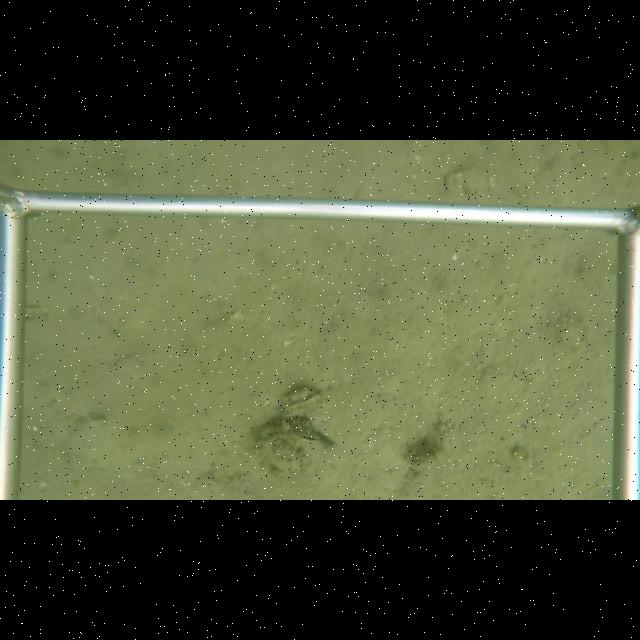Oyster-Open: (284, 430, 336, 449)
